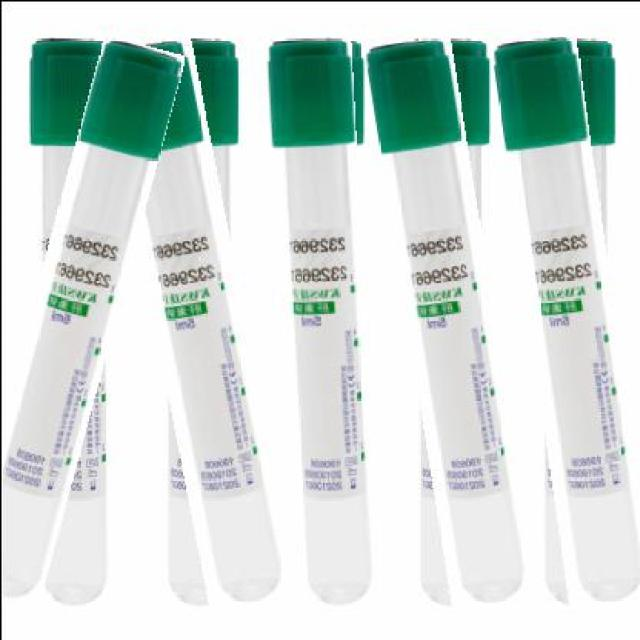Experimental-tube: (2, 34, 148, 606), (126, 30, 269, 608), (384, 35, 514, 608), (512, 35, 634, 610), (270, 31, 370, 608)
